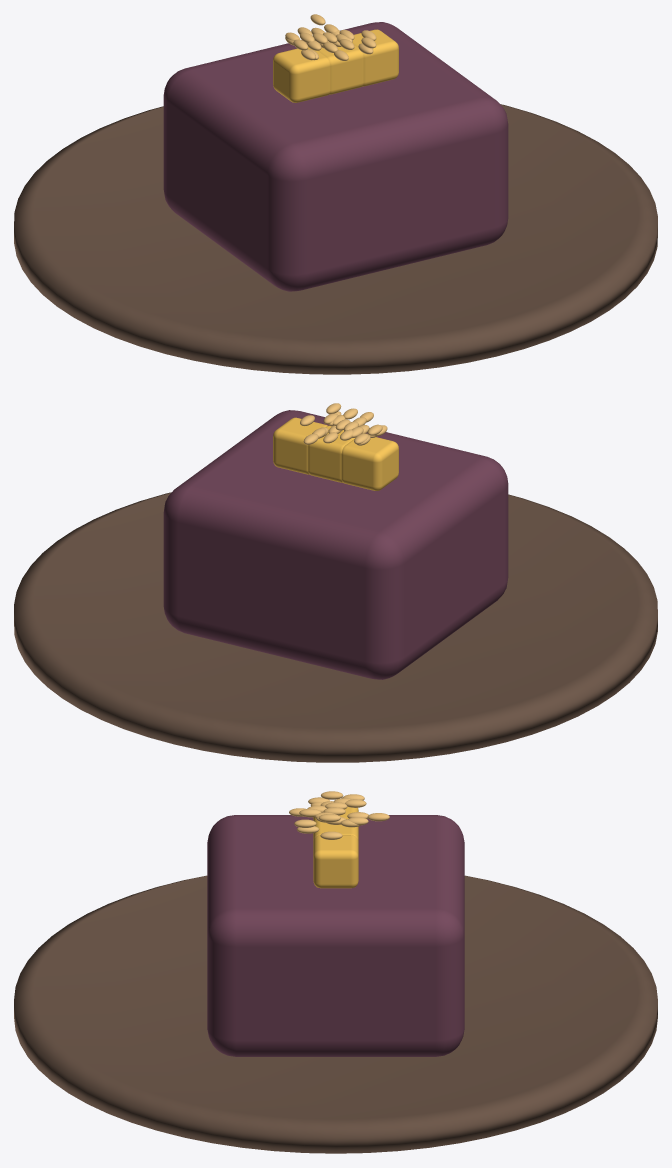
File: 33-sweet-potato.glb
The picture shows the model from 3 angles, top to bottom: view 1: azimuth 30°, elevation 25°; view 2: azimuth 150°, elevation 25°; view 3: azimuth 270°, elevation 25°; orthographic projection.
Parts seen in each view (by area): view 1: 고구마 양갱; view 2: 고구마 양갱; view 3: 고구마 양갱.
Boxes of the visible parts, bbox=[...] form: 고구마 양갱: bbox=[14, 14, 657, 374]; 고구마 양갱: bbox=[14, 403, 657, 762]; 고구마 양갱: bbox=[14, 791, 657, 1153].
Bounding box in the file's own units: 2 × 0.771 × 2.
